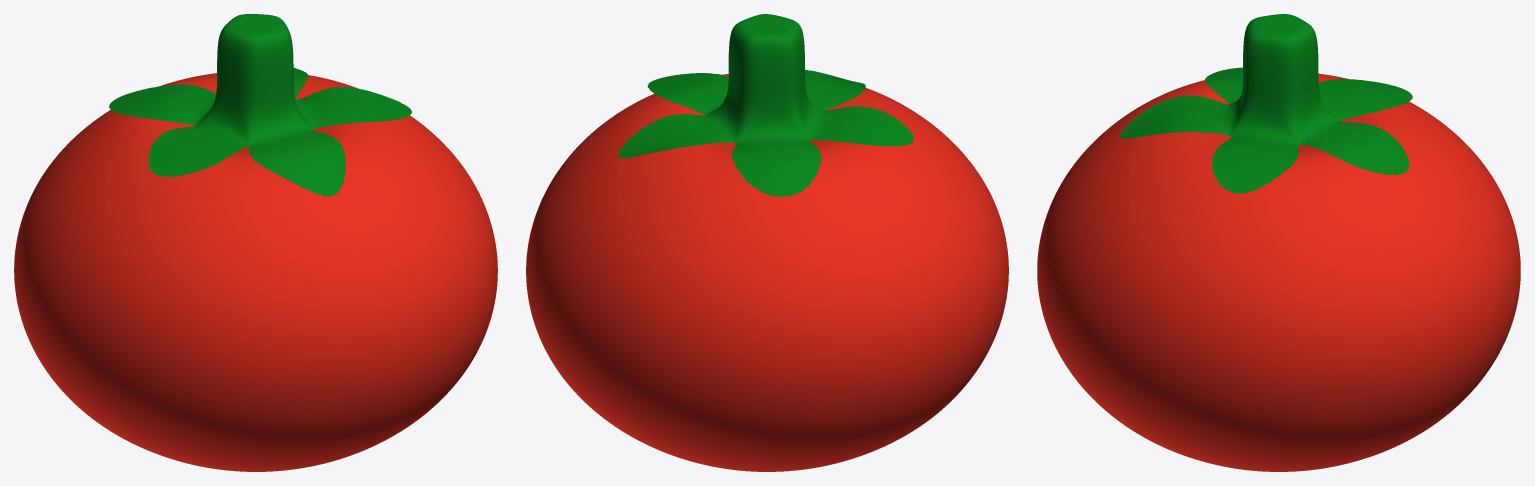
The model's file is Tomate_ligero.glb.
3 renders of one model, left to right at view 1: azimuth 30°, elevation 25°; view 2: azimuth 150°, elevation 25°; view 3: azimuth 270°, elevation 25°, orthographic.
Visible parts, largest first — view 1: Sphere, Circle; view 2: Sphere, Circle; view 3: Sphere, Circle.
Part boxes in pixels (box(x1,y1,x2,y2)): Sphere: box(14, 73, 497, 471); Circle: box(109, 14, 411, 196); Sphere: box(526, 74, 1008, 471); Circle: box(618, 14, 913, 196); Sphere: box(1037, 73, 1520, 471); Circle: box(1120, 14, 1412, 193).
Bounding box in the file's own units: 2.08 × 1.98 × 2.08.
